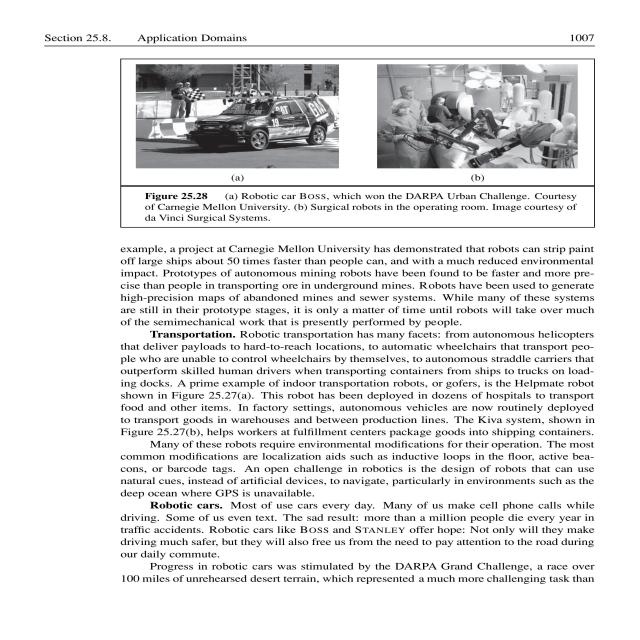diagram: (93, 51, 639, 236)
